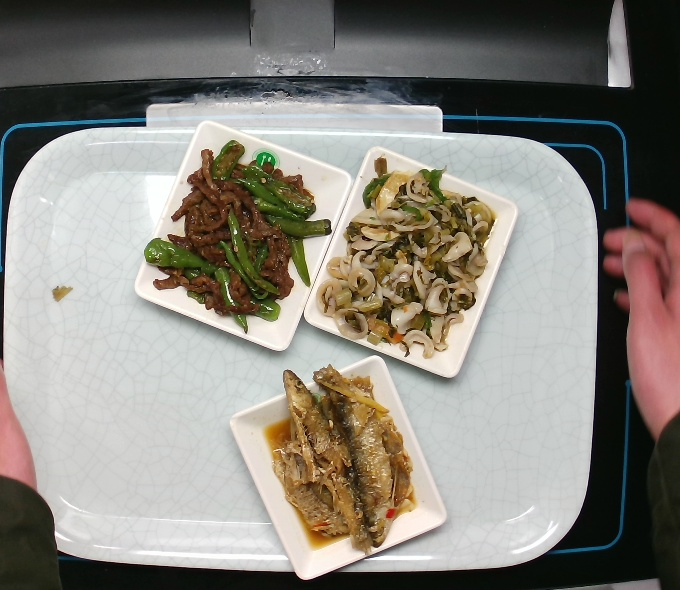wcq-QingJiaoNiuRou: (133, 129, 334, 339)
wcq-XiaoXiYu: (264, 354, 408, 570)
wcq-XueCaiYouYu: (311, 152, 515, 363)
